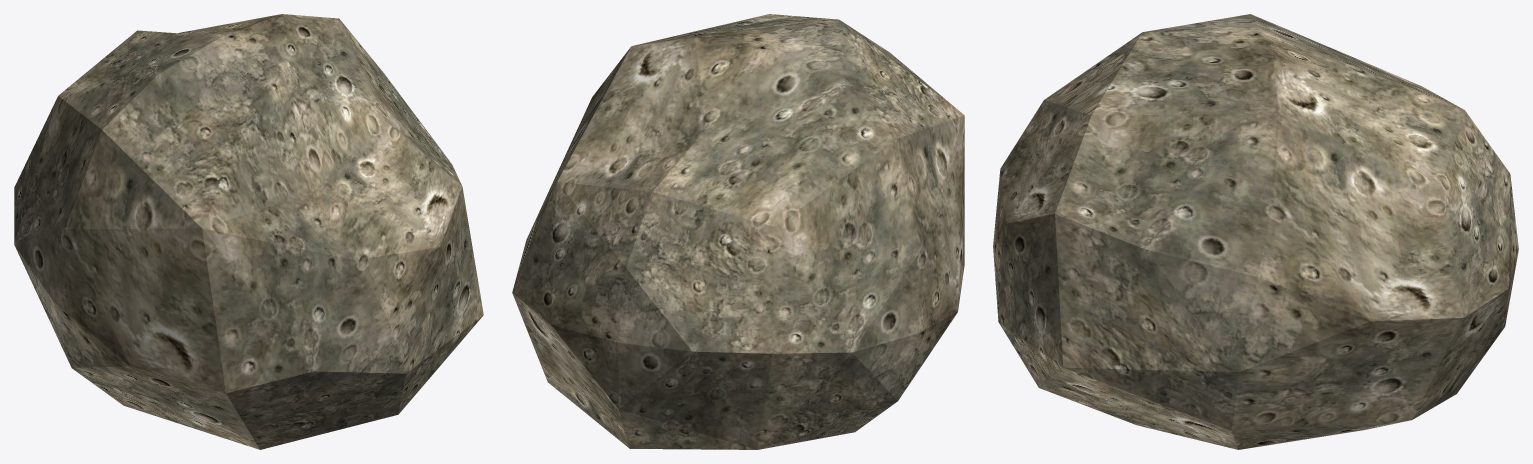
File: asteroid_radial_s01_l1.fbx
3 renders of one model, left to right at view 1: azimuth 30°, elevation 25°; view 2: azimuth 150°, elevation 25°; view 3: azimuth 270°, elevation 25°, orthographic. The views are drawn at different scales.
Parts seen in each view (by area): view 1: mesh_node; view 2: mesh_node; view 3: mesh_node.
Part boxes in pixels (left/top/right/bottom): mesh_node: left=14, top=14, right=483, bottom=449; mesh_node: left=512, top=14, right=964, bottom=449; mesh_node: left=993, top=14, right=1518, bottom=449.
Size of the model in its own units: 2.28 by 2.26 by 2.85.
